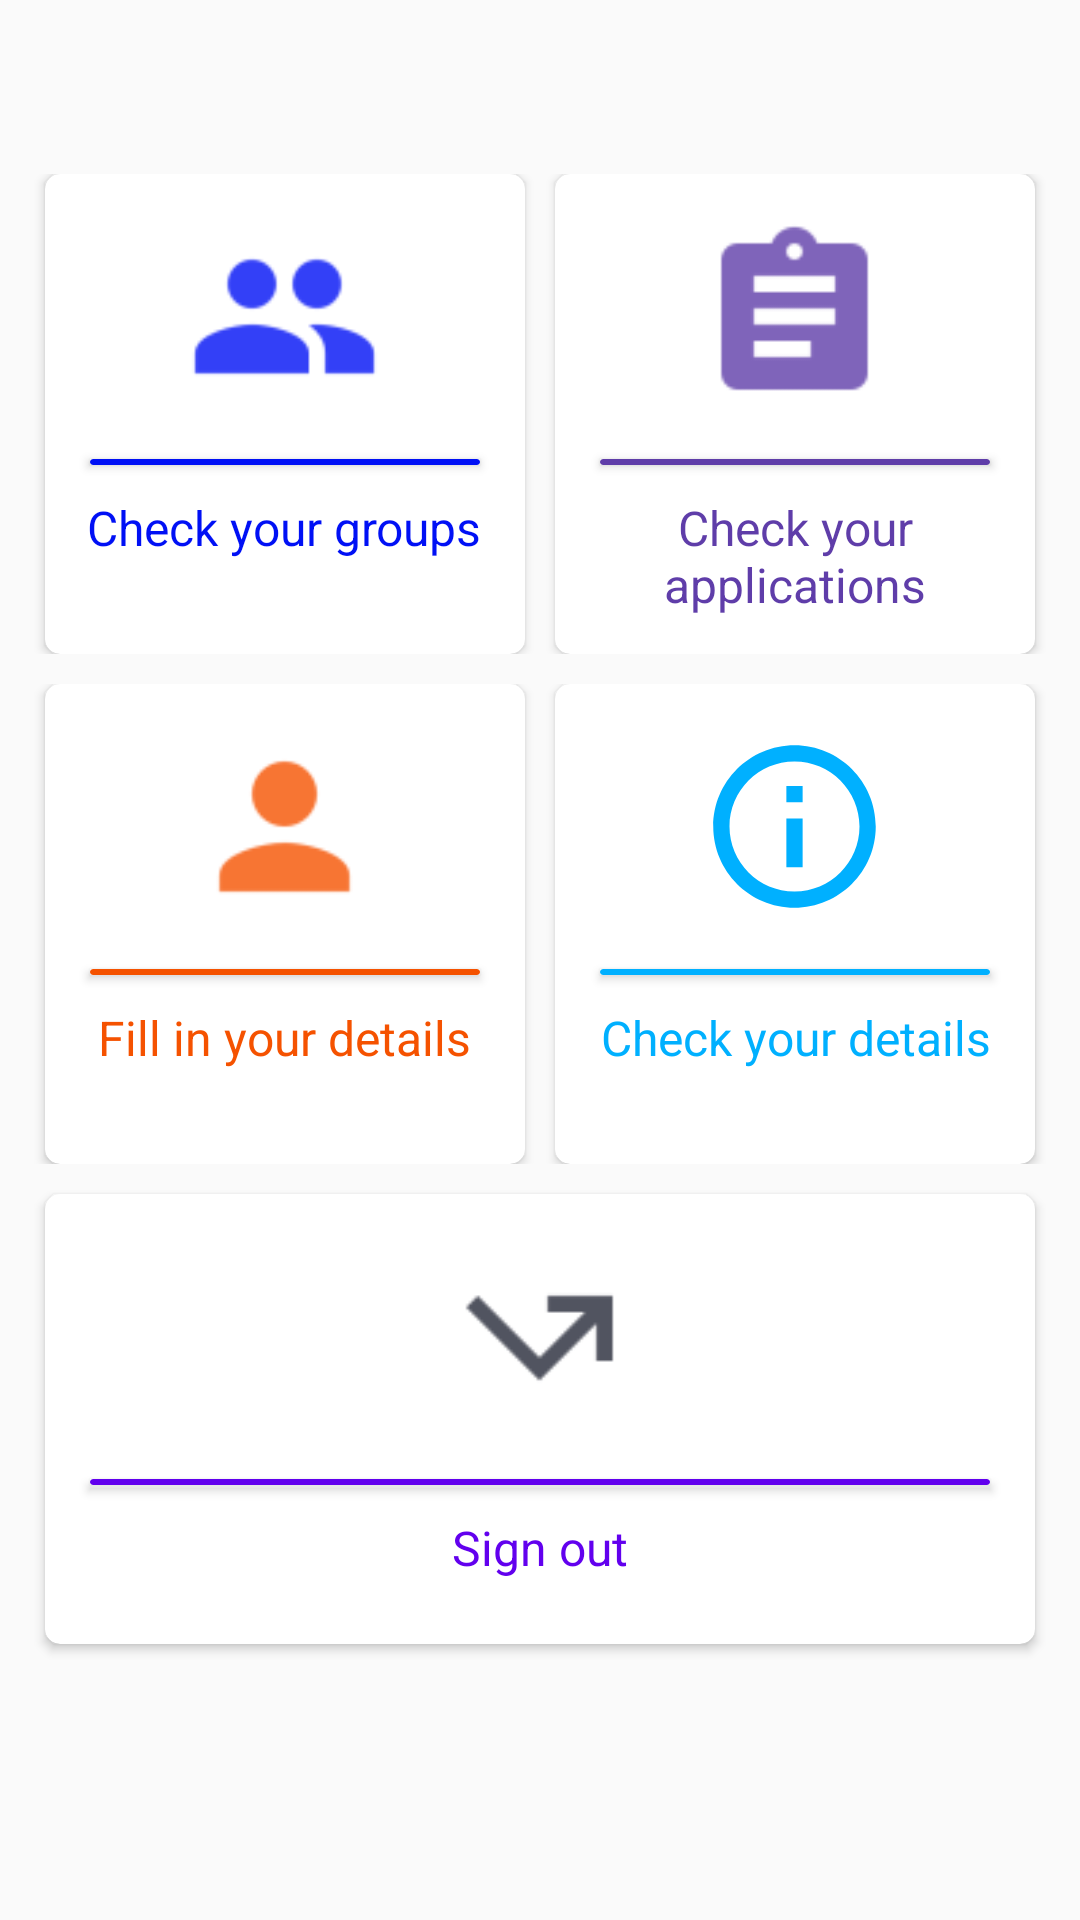

Screen size 1080*1920. Icon name, then its box in pixels as (x1, y1, x2, y2):
information: (713, 745, 876, 908)
person: (218, 760, 351, 893)
